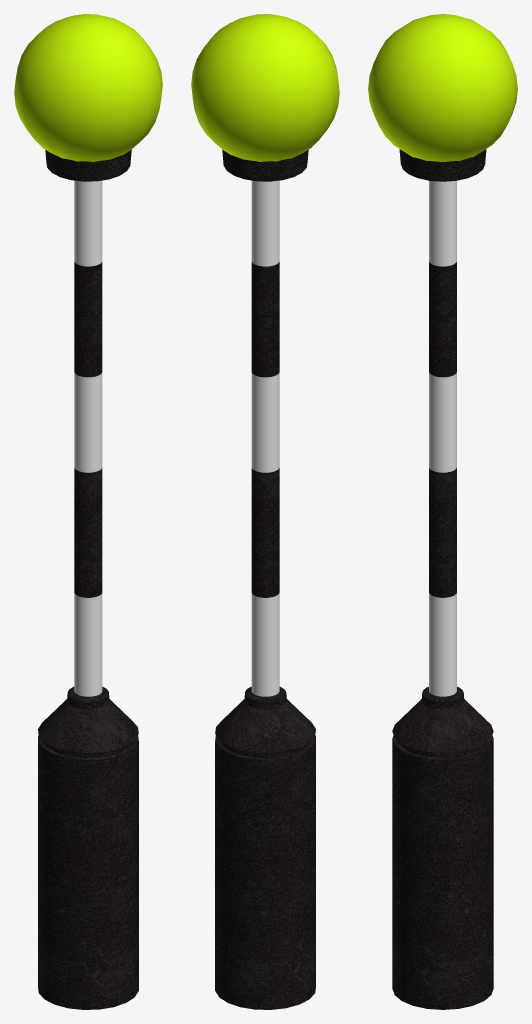
Rendered from crosswalk_lamp.glb.
The picture shows the model from 3 angles, left to right: view 1: azimuth 30°, elevation 25°; view 2: azimuth 150°, elevation 25°; view 3: azimuth 270°, elevation 25°; orthographic projection.
Parts seen in each view (by area): view 1: crosswalk_lamp; view 2: crosswalk_lamp; view 3: crosswalk_lamp.
Boxes of the visible parts, bbox=[...] form: crosswalk_lamp: bbox=[14, 14, 162, 1009]; crosswalk_lamp: bbox=[191, 14, 339, 1009]; crosswalk_lamp: bbox=[368, 14, 517, 1009].
Bounding box in the file's own units: 0.325 × 2.32 × 0.325.
Materials: 1 (1 with a texture image).
